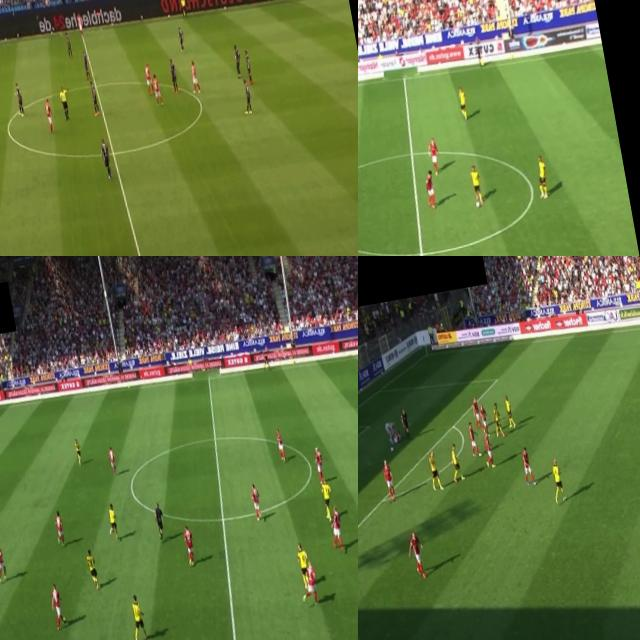ball: (474, 196, 482, 210), (388, 443, 394, 453), (49, 29, 52, 35)
player: (124, 593, 148, 640), (297, 563, 321, 605), (532, 150, 552, 200), (548, 452, 568, 502), (408, 528, 427, 580), (46, 580, 65, 631), (294, 540, 312, 593), (326, 506, 345, 549), (424, 445, 442, 490), (98, 134, 114, 184), (467, 162, 486, 204), (245, 482, 264, 523), (316, 478, 334, 521), (426, 136, 444, 178), (178, 526, 196, 568), (310, 442, 328, 484), (238, 75, 255, 118), (104, 504, 121, 546), (464, 413, 480, 456), (448, 440, 463, 485), (12, 80, 28, 122), (84, 548, 99, 591), (382, 456, 396, 501), (520, 442, 534, 486), (454, 82, 469, 121), (481, 428, 495, 467), (382, 412, 399, 444), (423, 168, 437, 206), (188, 59, 202, 96), (242, 46, 255, 84), (491, 395, 504, 433), (166, 57, 180, 92), (53, 509, 66, 544), (151, 70, 163, 106), (231, 42, 243, 78), (502, 389, 514, 425), (88, 79, 100, 114), (44, 99, 56, 134), (272, 427, 284, 462), (80, 51, 94, 80), (141, 61, 154, 92), (174, 23, 186, 54), (478, 400, 489, 433), (62, 29, 74, 58), (469, 394, 480, 424), (104, 448, 116, 472), (0, 541, 7, 582), (73, 438, 83, 464), (74, 13, 84, 37), (392, 429, 402, 447)
